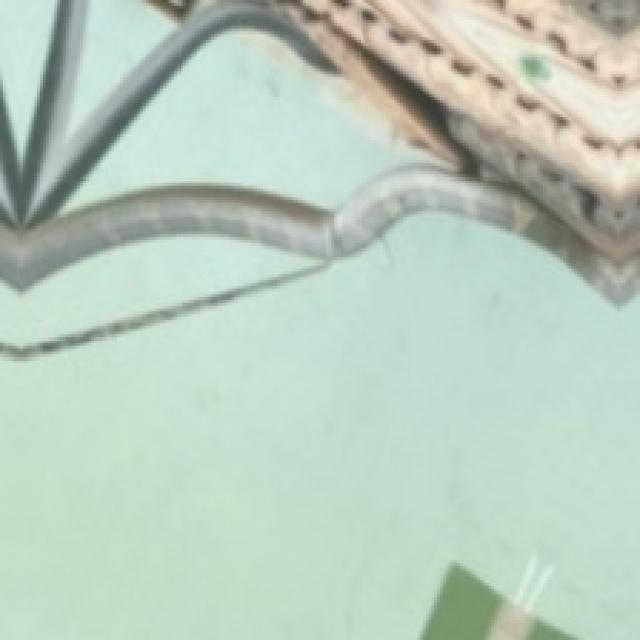king cobra: (0, 0, 637, 303)
